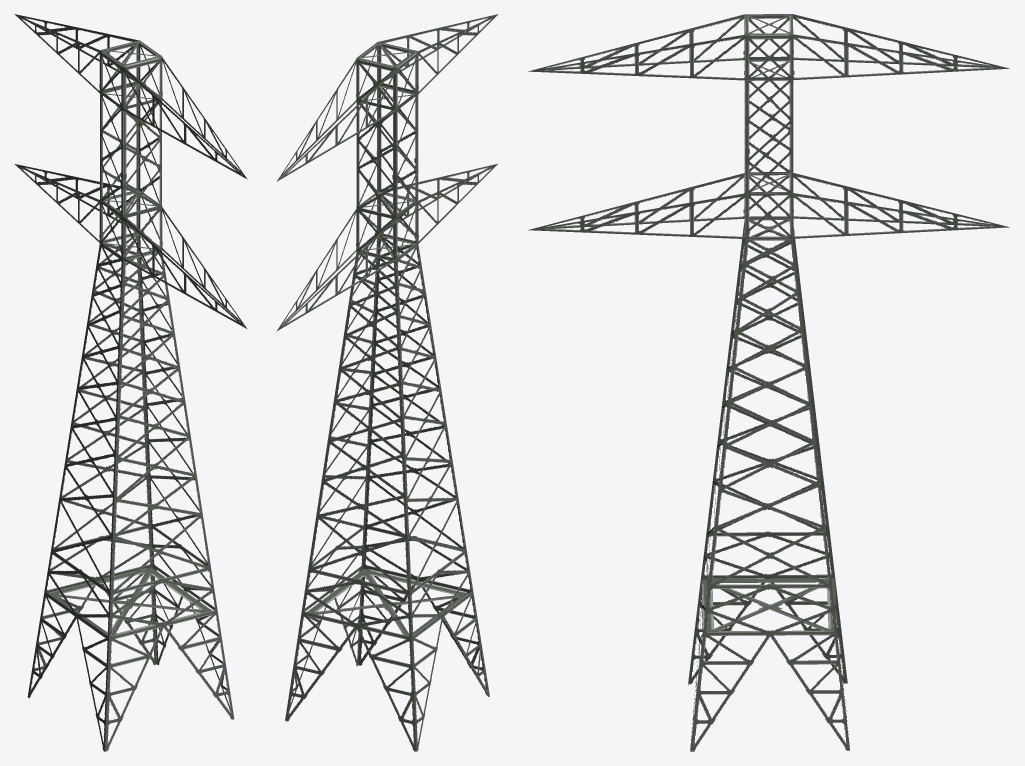
The model's file is vedeni_stozar.glb.
3 renders of one model, left to right at view 1: azimuth 30°, elevation 25°; view 2: azimuth 150°, elevation 25°; view 3: azimuth 270°, elevation 25°, orthographic. The views are drawn at different scales.
Parts seen in each view (by area): view 1: vedeni_stozar; view 2: vedeni_stozar; view 3: vedeni_stozar.
Boxes of the visible parts, box(x1,y1,x2,y2) form: vedeni_stozar: box(14, 14, 247, 751); vedeni_stozar: box(276, 14, 498, 751); vedeni_stozar: box(528, 14, 1009, 751).
Size of the model in its own units: 6.41 by 30.3 by 19.15.
Materials: 1 (1 with a texture image).
